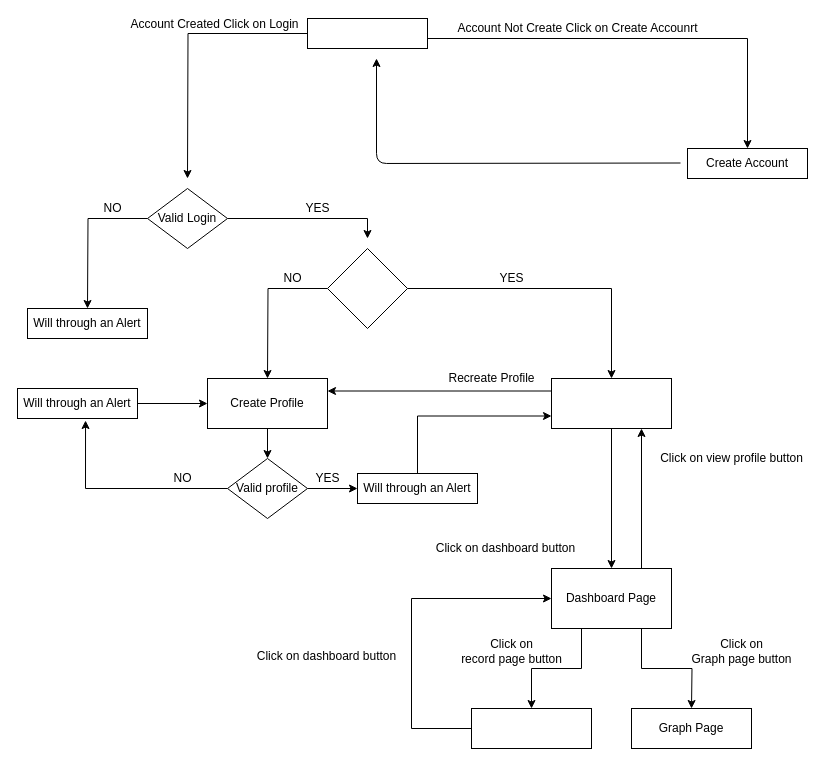
Image size: 829x766. Some labels were removed from this diagram. The centre of each missing label's shape, as x and y in pixels:
Login Page: pixel 367 33
Profile Created: pixel 367 288
Record page: pixel 531 728
View Profile: pixel 611 403
